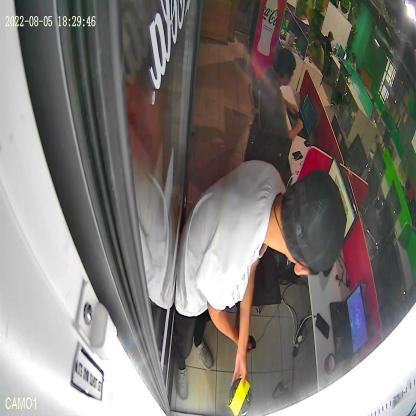yellow: (228, 376, 252, 416)
